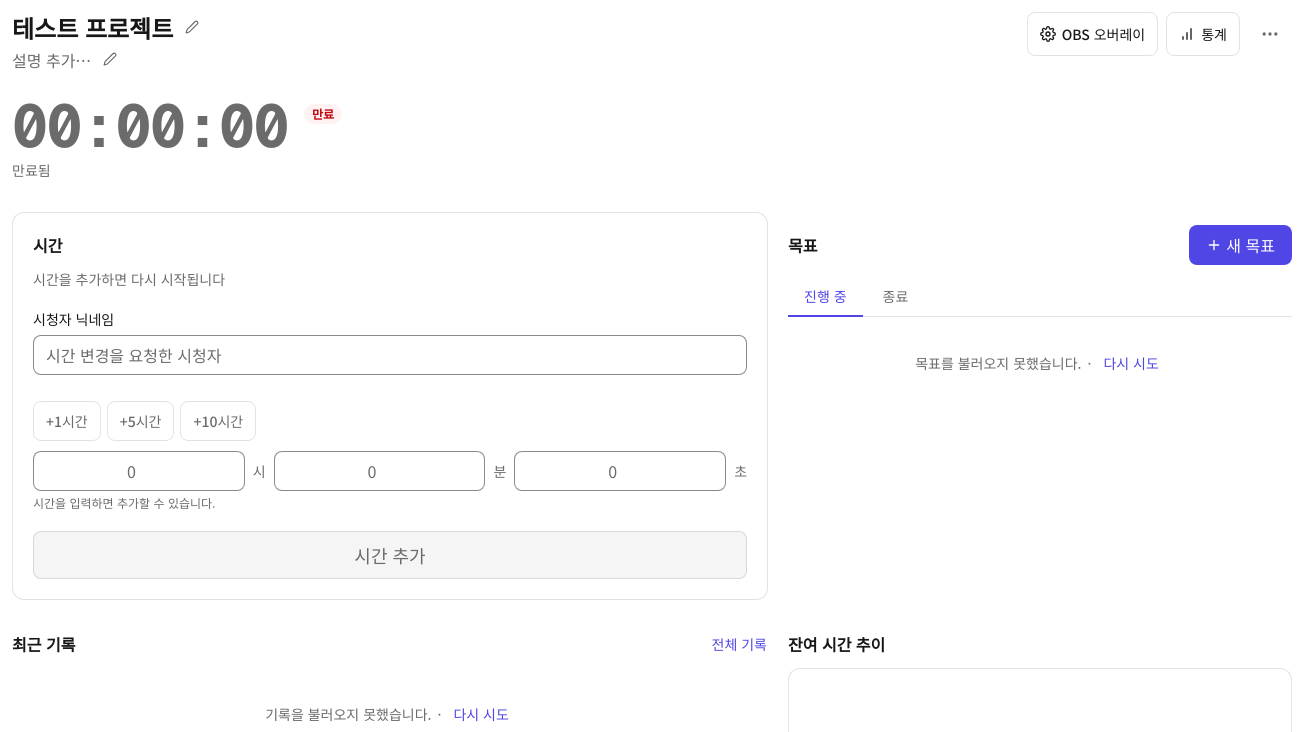
Test: 콘솔 조회 실패 표시 (W31) › '다시 시도'를 누르면 그 섹션만 다시 불러와 실제 데이터로 바뀐다
Check: the text "기록을 불러오지 못했습니다." is shown, box [265,704,432,724]
Click the button "다시 시도" next to "기록을 불러오지 못했습니다." at (481, 714), box [447,700,515,728]
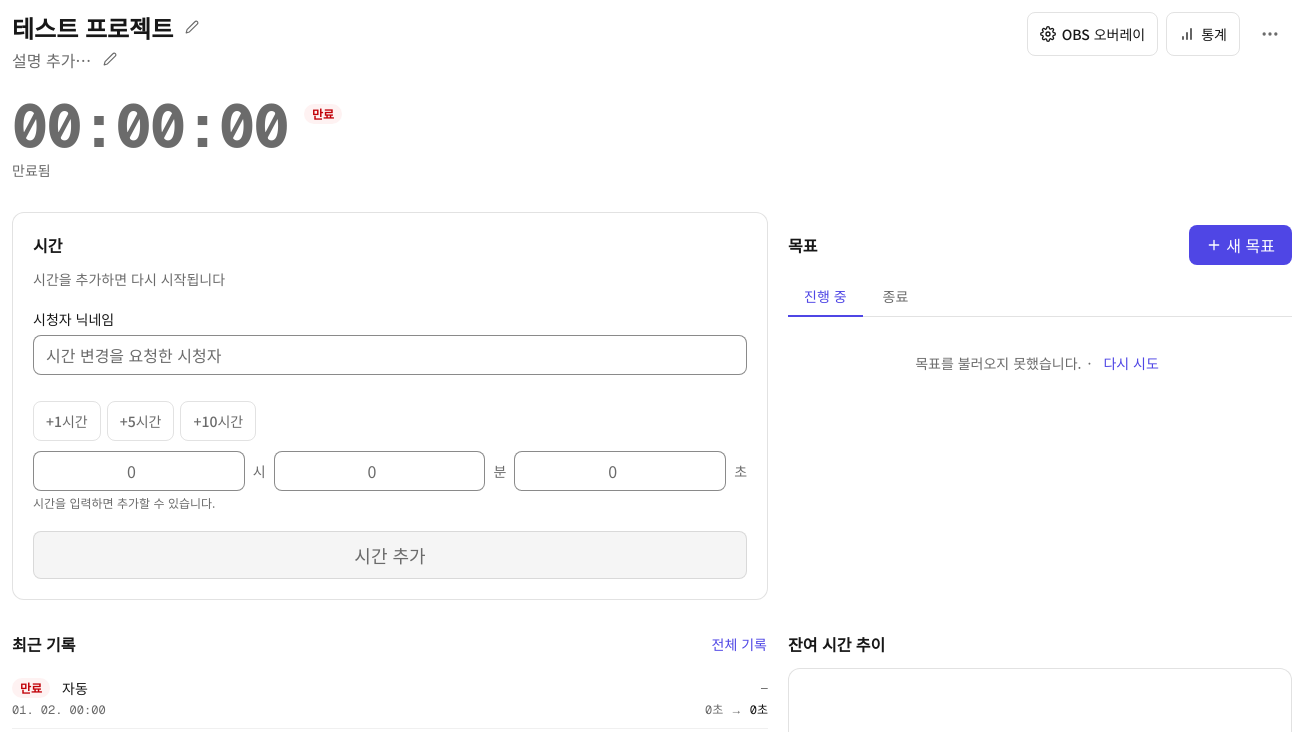
Check: the text "목표를 불러오지 못했습니다." is shown, box [915,353,1082,373]
Check: the text "자동" is shown, box [62,678,88,698]
Check: the text "기록을 불러오지 못했습니다." is gone
Click the button "다시 시도" at (1131, 363), box [1097,349,1165,377]
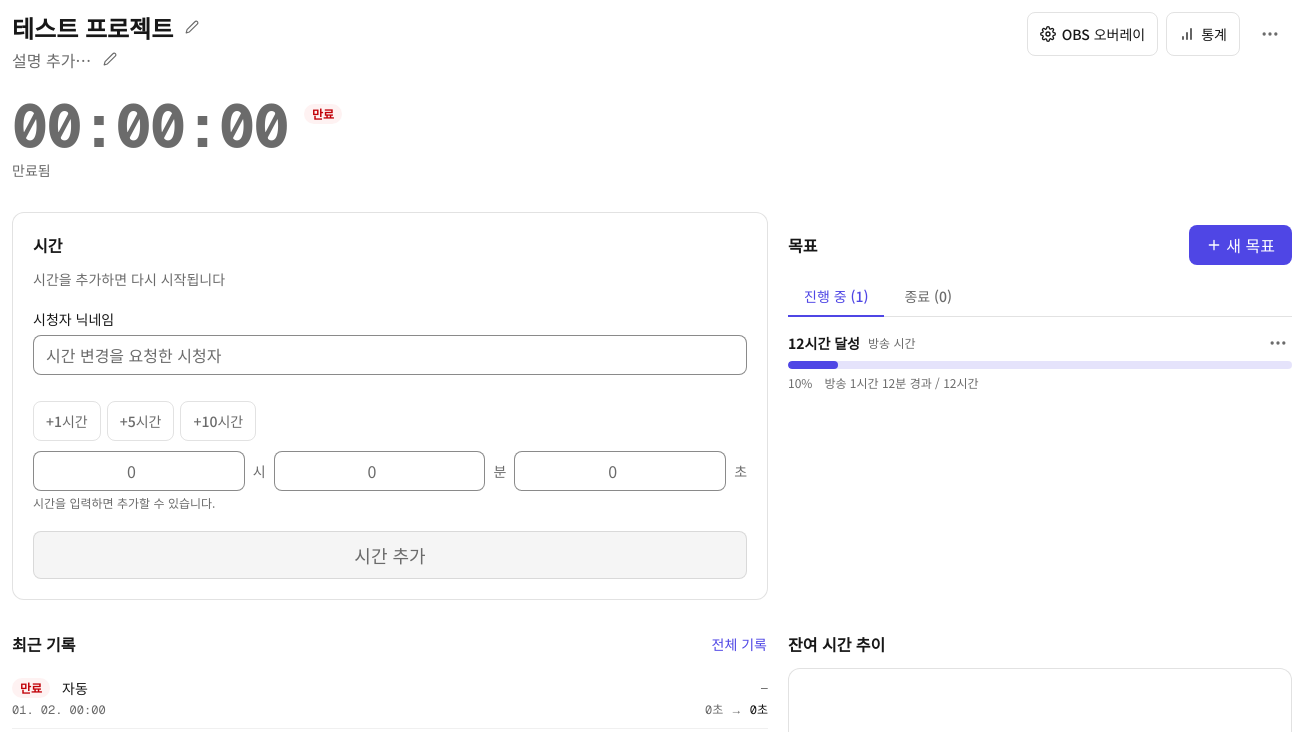
Check: the heading "12시간 달성" is shown, box [788,333,860,353]
Check: the tab "진행 중 (1)" is shown, box [788,277,884,317]
